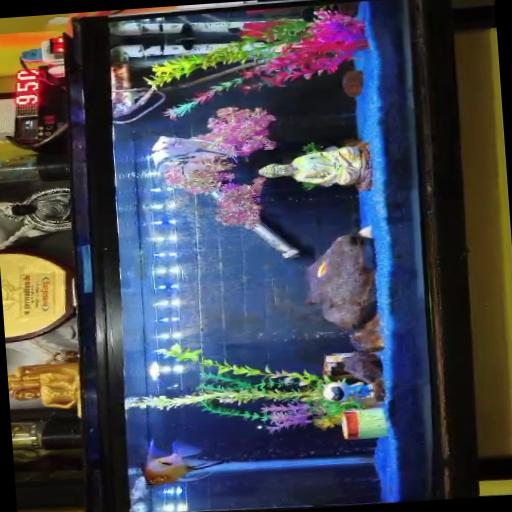Fish: (143, 440, 227, 484)
